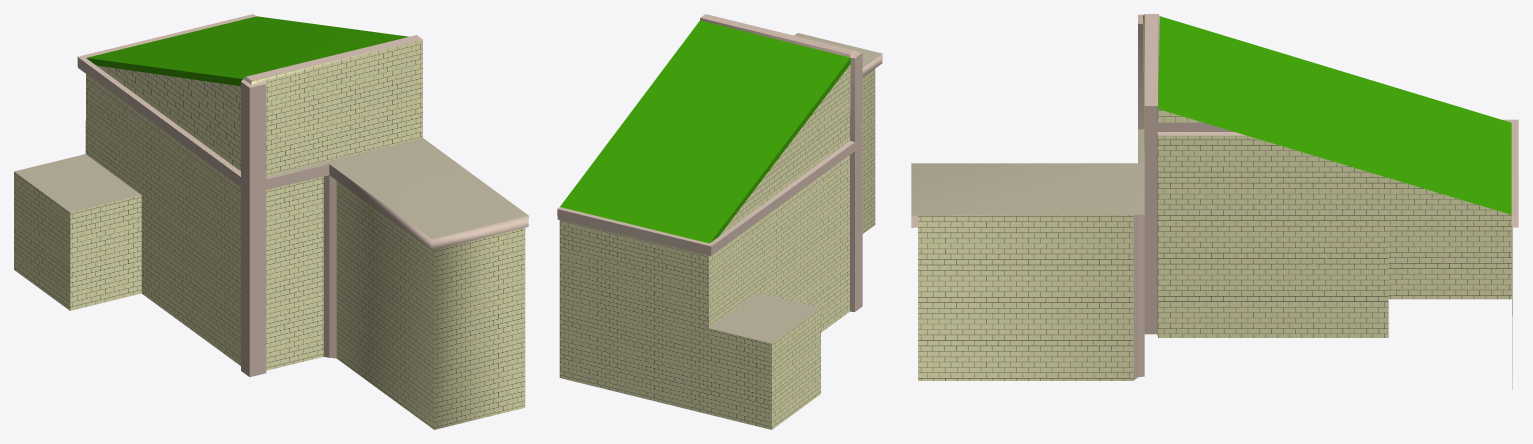
Rendered from m_house.fbx.
3 renders of one model, left to right at view 1: azimuth 30°, elevation 25°; view 2: azimuth 150°, elevation 25°; view 3: azimuth 270°, elevation 25°, orthographic. The views are drawn at different scales.
Visible parts, largest first — view 1: pCube357; view 2: pCube357; view 3: pCube357.
Boxes of the visible parts, bbox=[...] form: pCube357: bbox=[14, 14, 528, 429]; pCube357: bbox=[557, 14, 882, 429]; pCube357: bbox=[911, 14, 1518, 389].
Bounding box in the file's own units: 2089 × 2413 × 4101.
